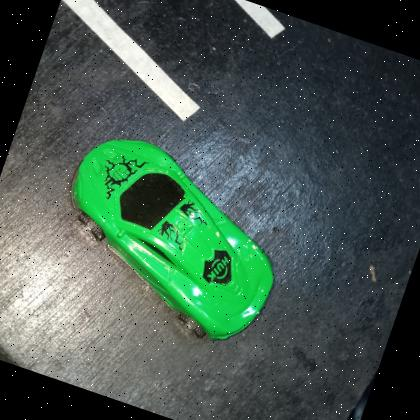Car: (70, 139, 274, 341)
